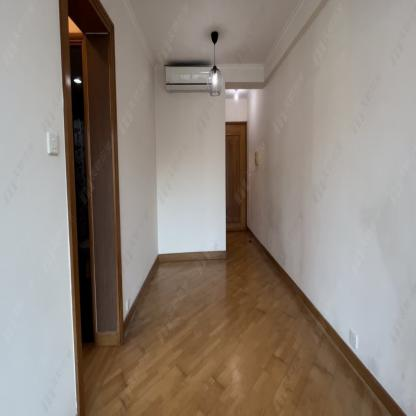AC: (165, 65, 218, 92)
